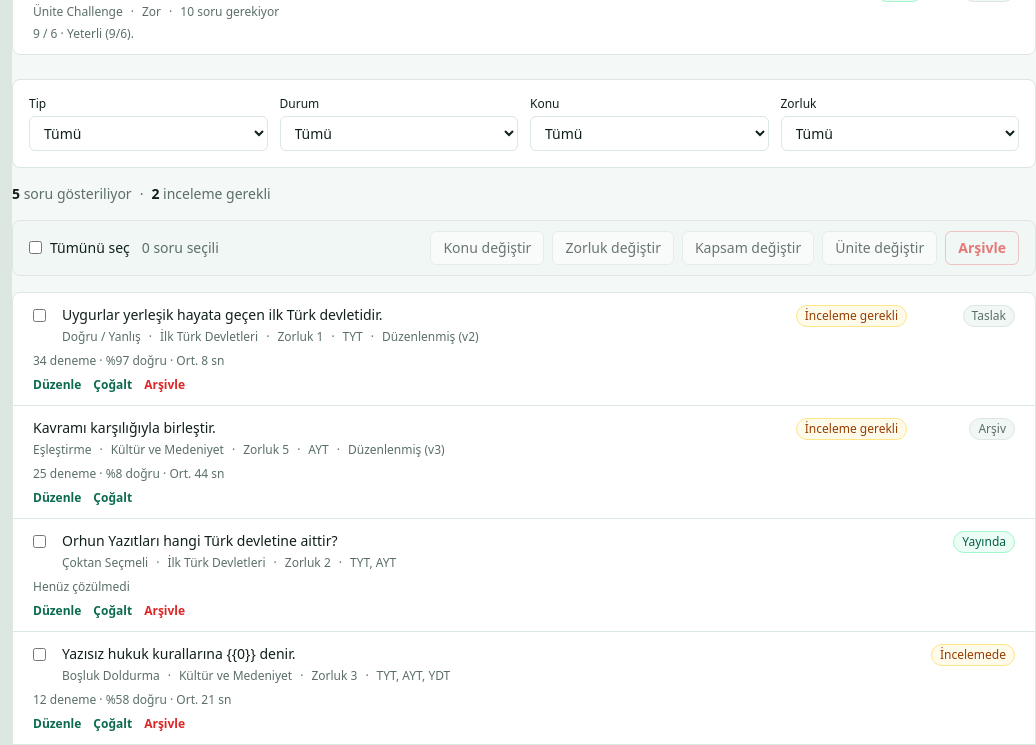
Test case: ExercisesBrowser archiving › surfaces a failed archive as an accessible alert
This screenshot has width=1036, height=745.
(page scrolled)
Click the button "Arşivle" below "34" at (165,384), box [144, 376, 185, 392]
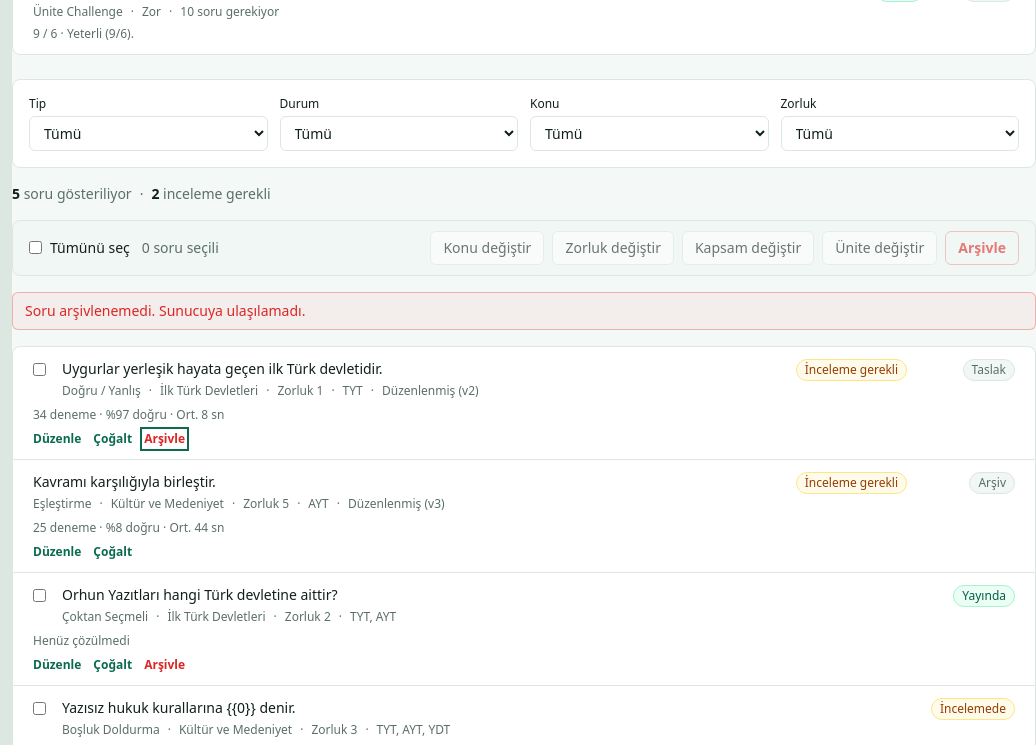
Expected: the message shows "Soru arşivlenemedi", [25, 300, 159, 320]
Expected: the message shows "Sunucuya ulaşılamadı", [159, 300, 306, 320]
